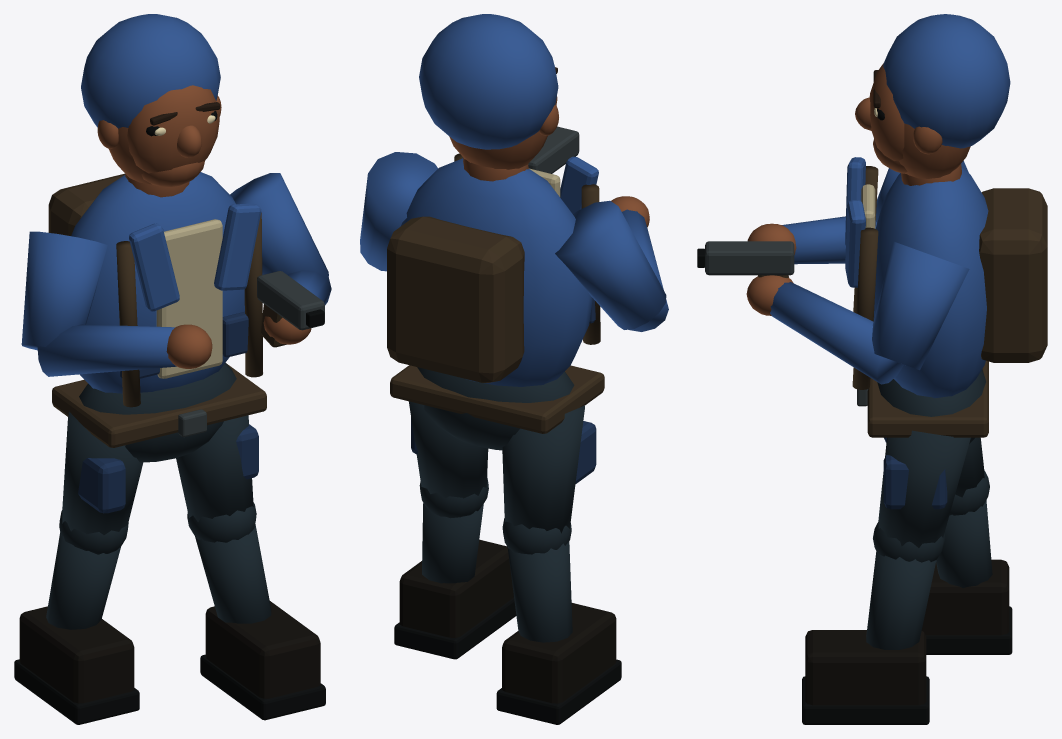
File: survivor_06.glb
3 views of the same model, side by side, from view 1: azimuth 30°, elevation 25°; view 2: azimuth 150°, elevation 25°; view 3: azimuth 270°, elevation 25° (orthographic).
Visible parts, largest first — view 1: survivor_06; view 2: survivor_06; view 3: survivor_06.
Part boxes in pixels (x1=…): survivor_06: x1=14, y1=14, x2=331, y2=724; survivor_06: x1=360, y1=14, x2=668, y2=724; survivor_06: x1=697, y1=14, x2=1047, y2=724.
Size of the model in its own units: 0.5398 by 1.13 by 0.55.
